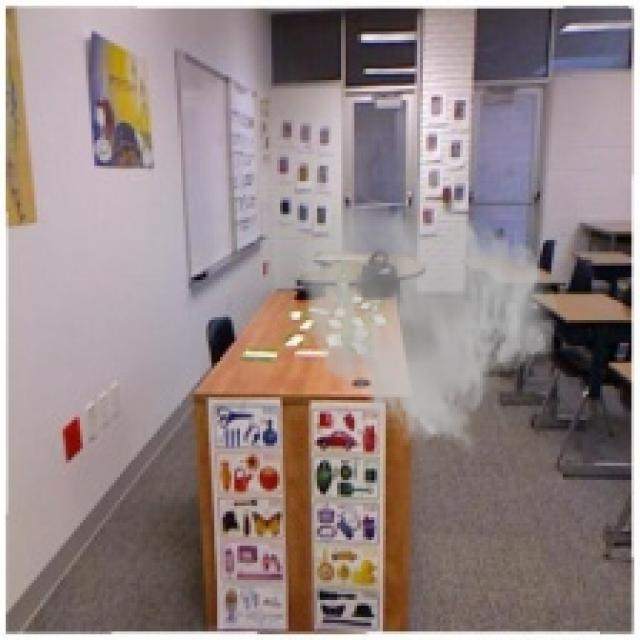smoke: (294, 197, 560, 454)
